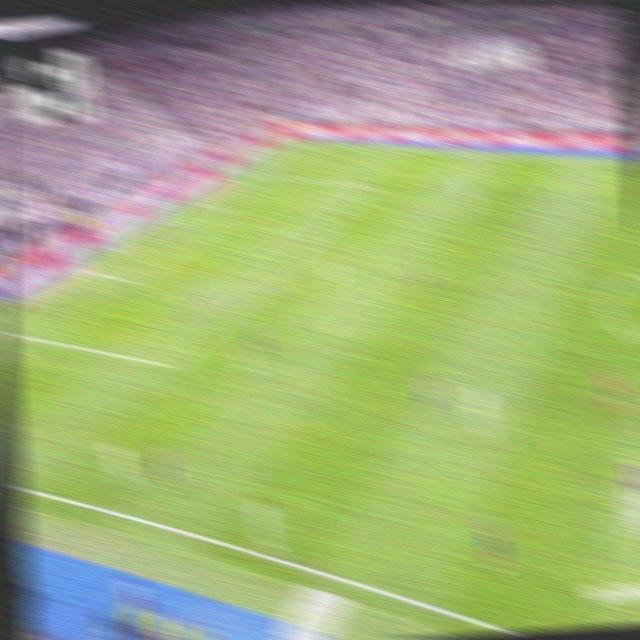bigarea_bottom_inner: (159, 352, 180, 376)
bigarea_top_inner: (359, 177, 378, 193)
bigarea_top_outter: (234, 164, 252, 178)
bottom_arc_area_intersection: (247, 277, 266, 295)
corner: (281, 133, 302, 146)
smallarea_bottom_inner: (122, 269, 143, 289)
smallarea_top_inner: (225, 202, 243, 214)
top_arc_area_intersection: (314, 216, 333, 233)
